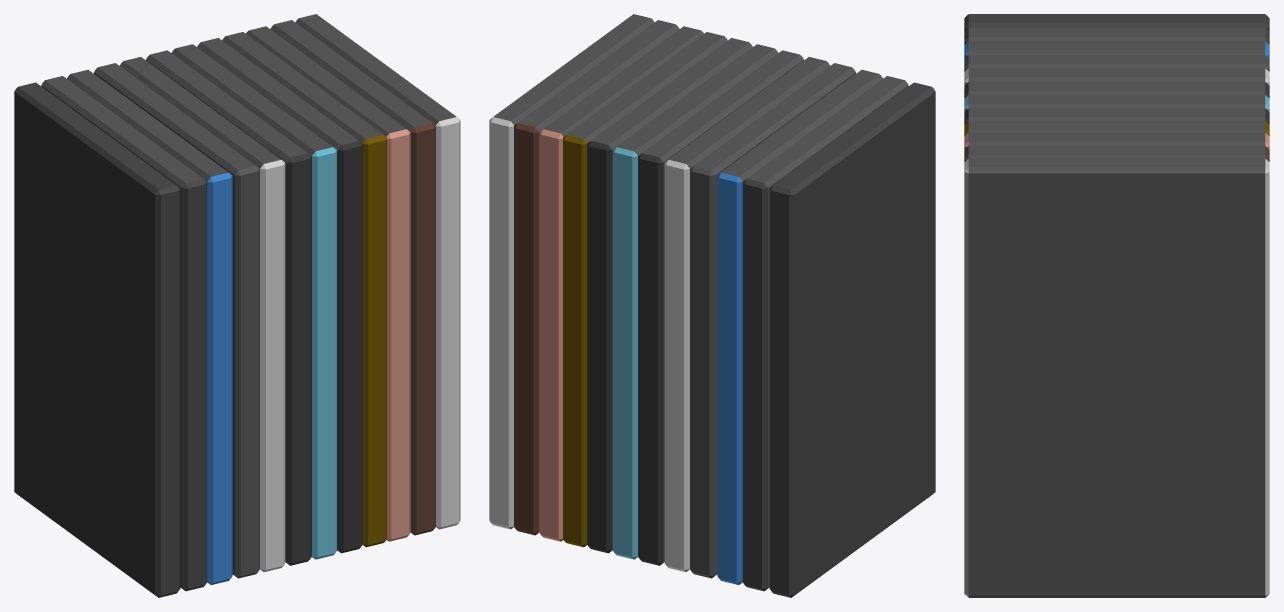
Rendered from Games.fbx.
The picture shows the model from 3 angles, left to right: view 1: azimuth 30°, elevation 25°; view 2: azimuth 150°, elevation 25°; view 3: azimuth 270°, elevation 25°; orthographic projection. The views are drawn at different scales.
Parts seen in each view (by area): view 1: Cube.1556; view 2: Cube.1556; view 3: Cube.1556.
Boxes of the visible parts, x1,y1,x2,y2 form: Cube.1556: (14, 14, 460, 597); Cube.1556: (489, 14, 935, 597); Cube.1556: (964, 14, 1269, 597).
Size of the model in its own units: 17.54 by 22.38 by 14.4.
